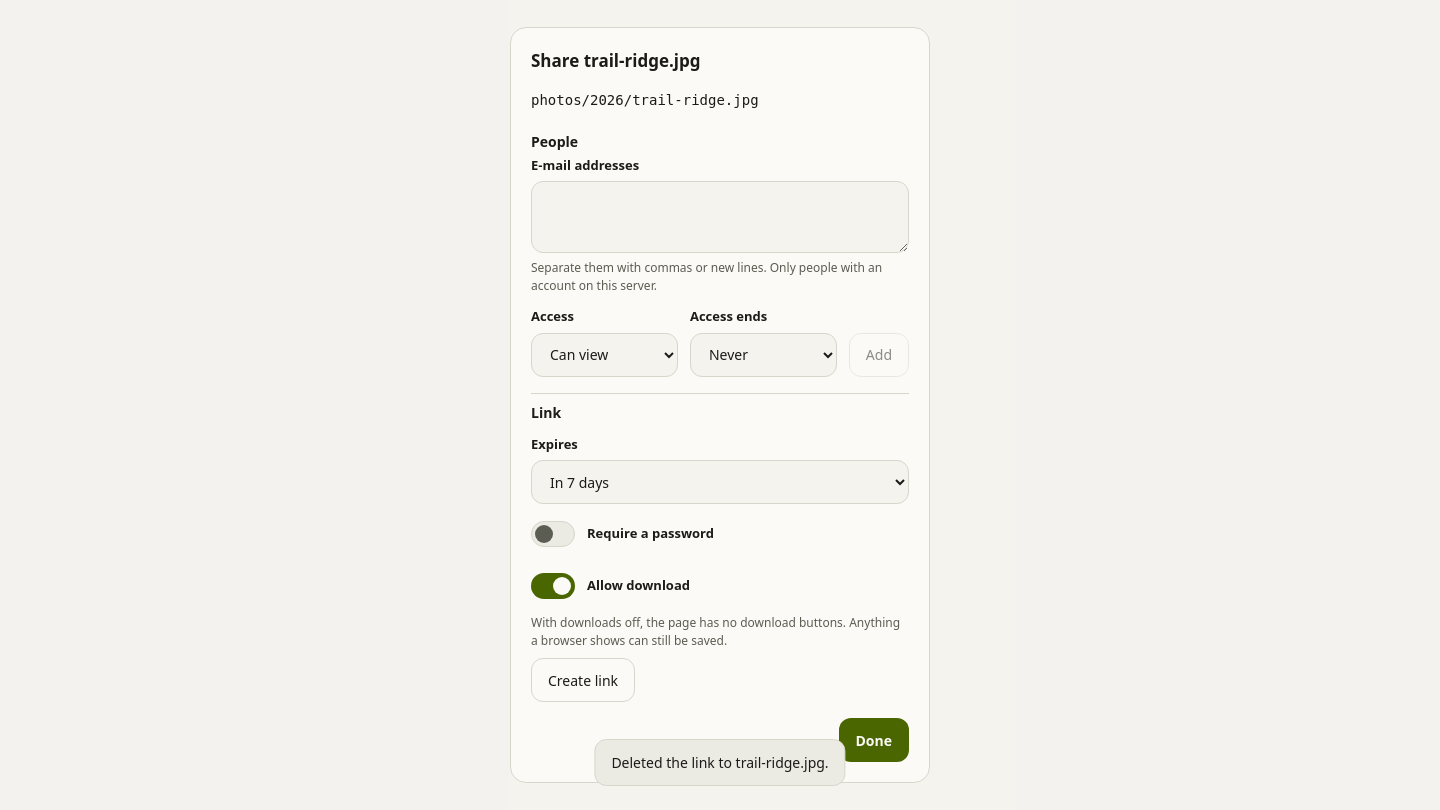
Test case: folder lead
Step 1. Click the button "Create link" → (583, 680), box [531,658,635,702]
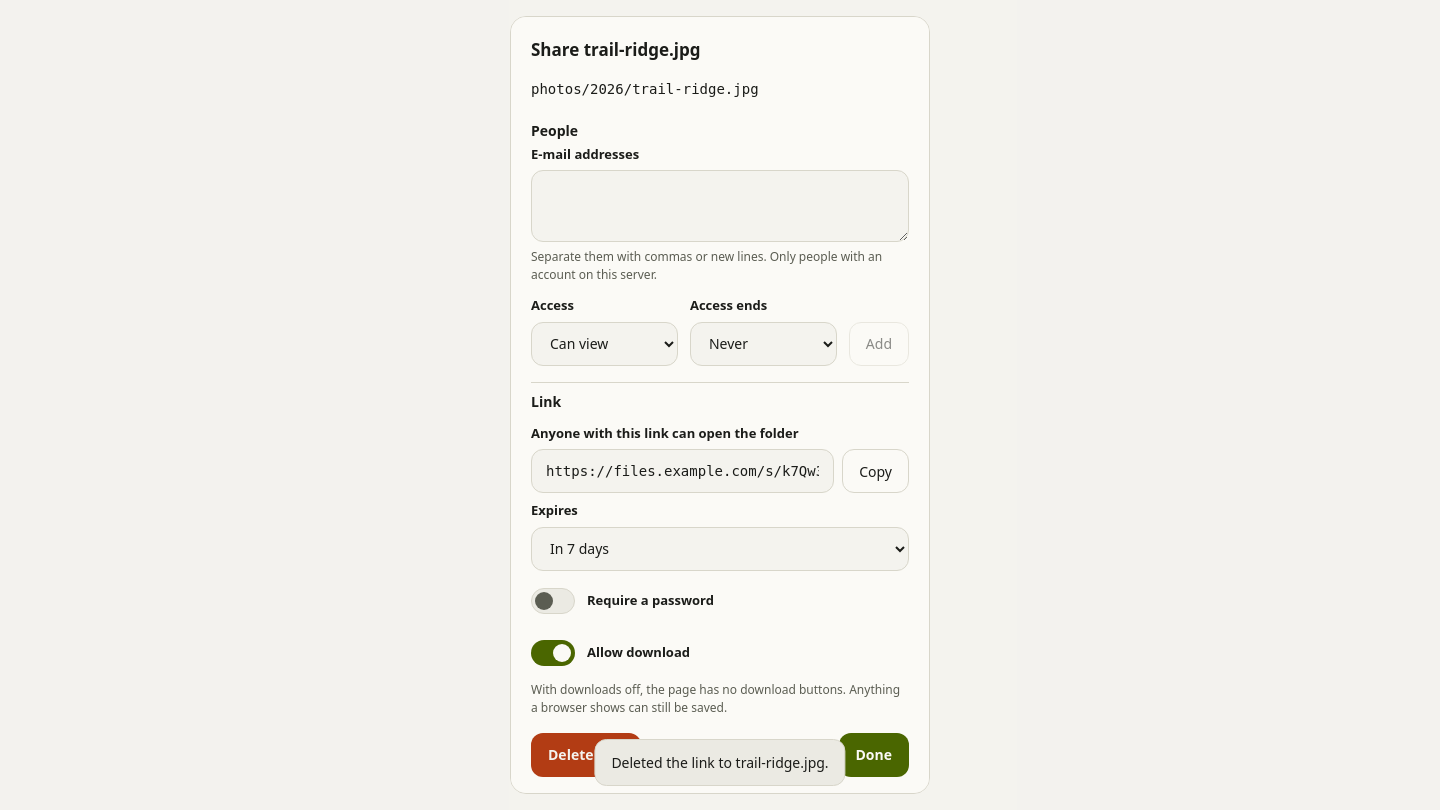
Expected: the field labelled "Anyone with this link can open the folder" is shown, [531,449,834,493]
Expected: the text "Anyone with this link can open the folder" is shown, [531,424,799,442]
